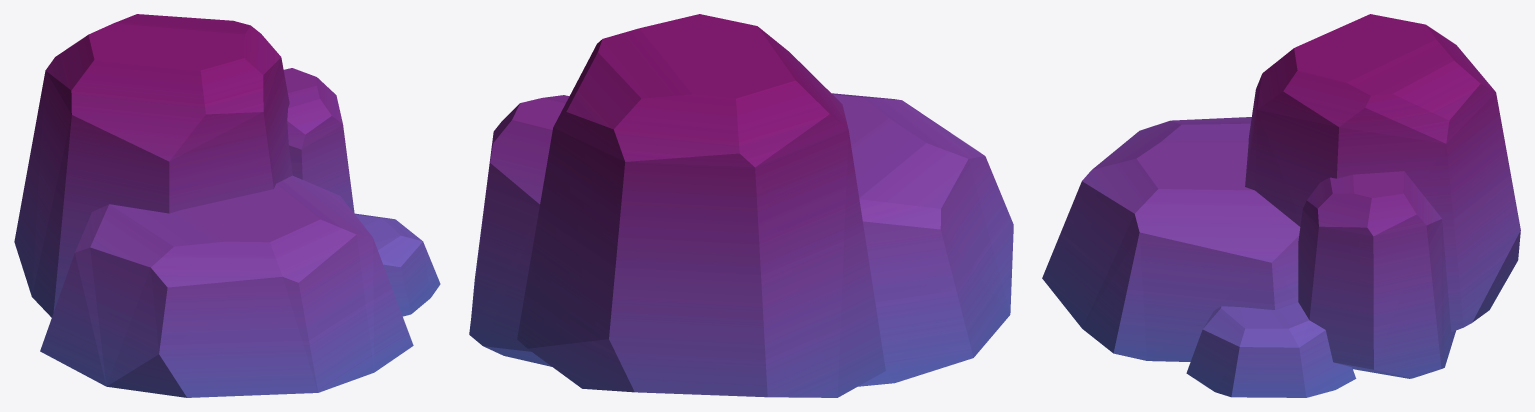
Rendered from rocatopacio_02.fbx.
The picture shows the model from 3 angles, left to right: view 1: azimuth 30°, elevation 25°; view 2: azimuth 150°, elevation 25°; view 3: azimuth 270°, elevation 25°; orthographic projection. The views are drawn at different scales.
Visible parts, largest first — view 1: cueva10.001; view 2: cueva10.001; view 3: cueva10.001.
Boxes of the visible parts, x1,y1,x2,y2 form: cueva10.001: [14, 14, 440, 397]; cueva10.001: [469, 14, 1013, 397]; cueva10.001: [1042, 14, 1520, 397].
Size of the model in its own units: 1051 by 664 by 1131.
Materials: 1 (1 with a texture image).
